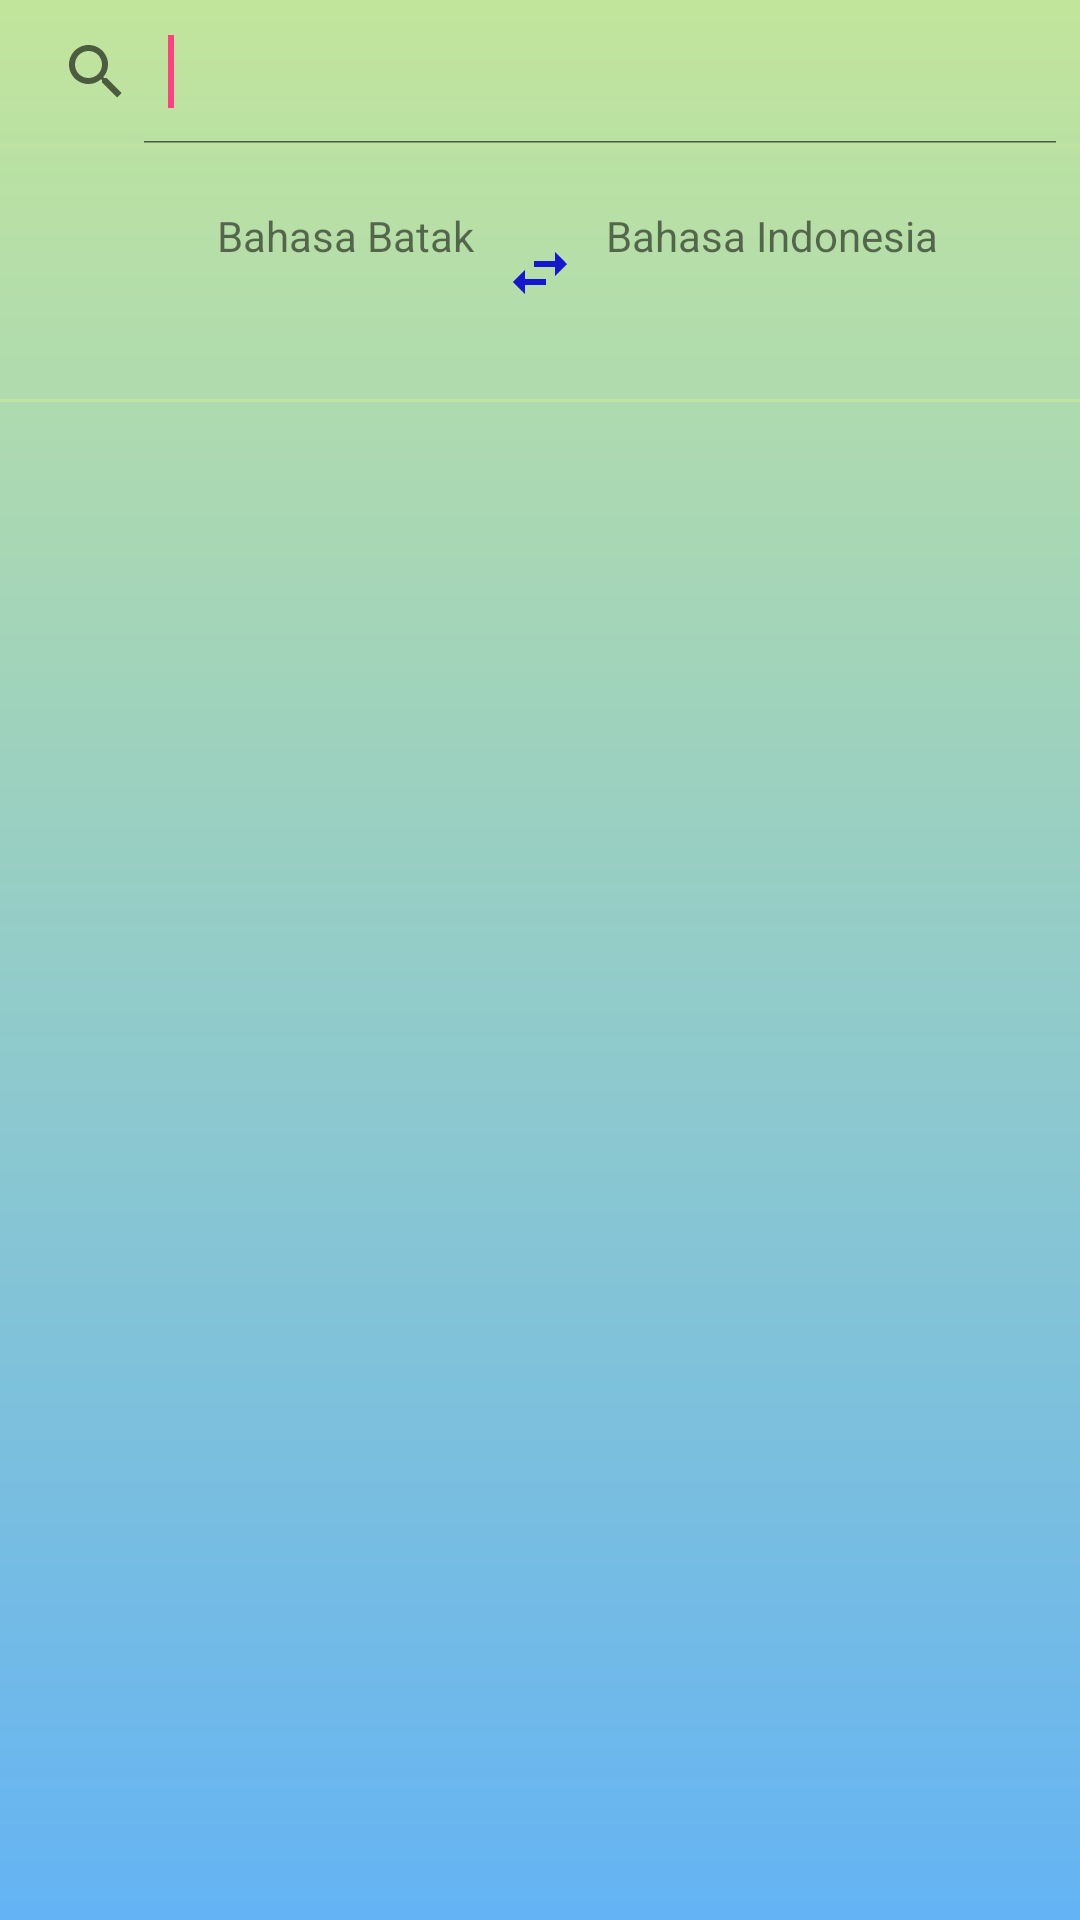

Screen size 1080x1920. Icon name, then its box in pixels as (x1, y1, x2, y2):
swap horiz: (513, 252, 567, 294)
